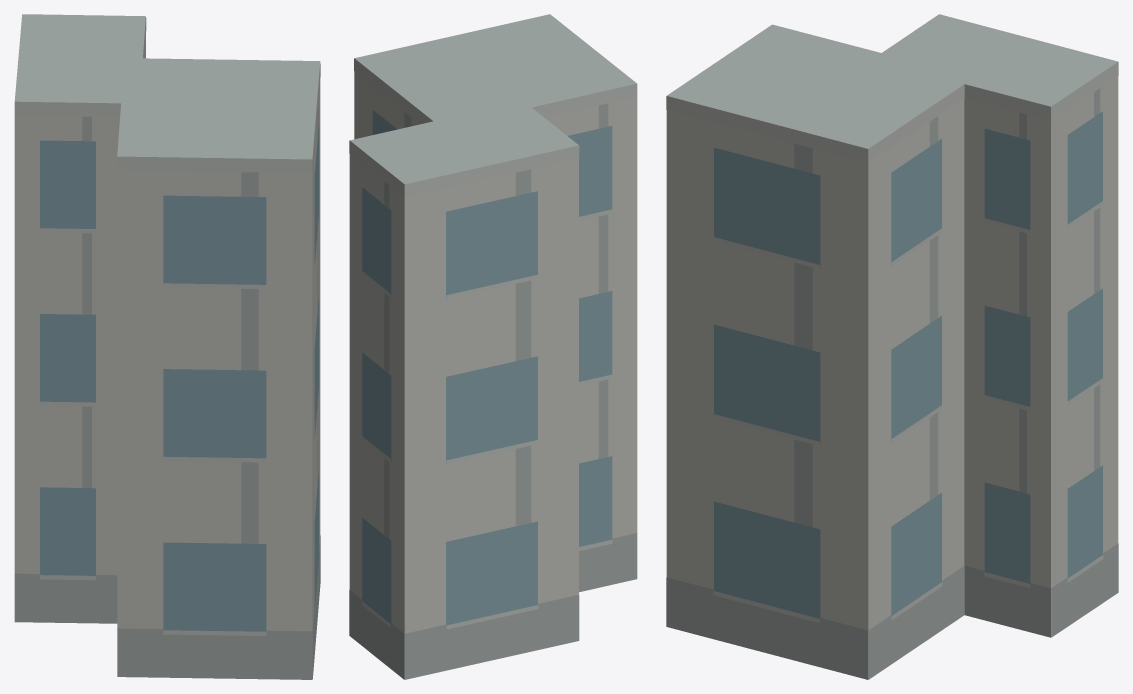
File: survey-upis-32821680.glb
3 renders of one model, left to right at view 1: azimuth 30°, elevation 25°; view 2: azimuth 150°, elevation 25°; view 3: azimuth 270°, elevation 25°, orthographic. The views are drawn at different scales.
Visible parts, largest first — view 1: survey-upis-32821680.tmp; view 2: survey-upis-32821680.tmp; view 3: survey-upis-32821680.tmp.
Part boxes in pixels (x1=…): survey-upis-32821680.tmp: x1=14, y1=14, x2=320, y2=679; survey-upis-32821680.tmp: x1=349, y1=14, x2=637, y2=679; survey-upis-32821680.tmp: x1=666, y1=14, x2=1118, y2=679.
Bounding box in the file's own units: 5 × 9.15 × 7.07.
